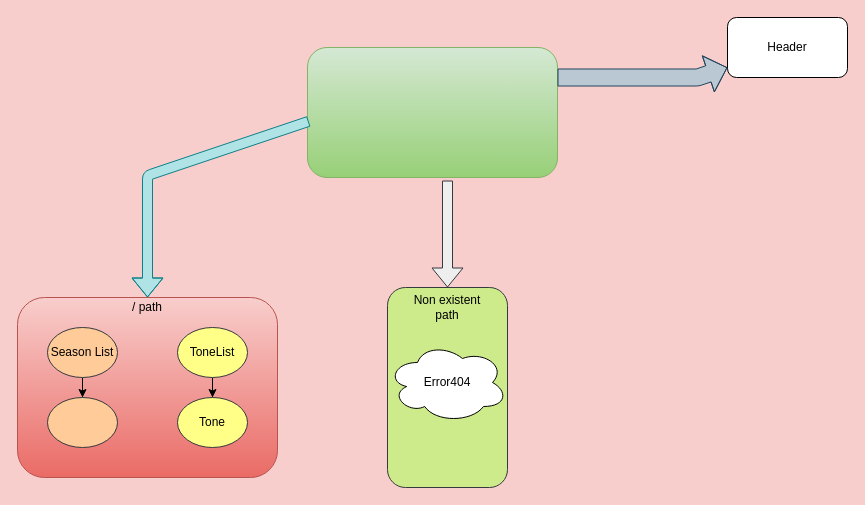
This 865x505 diagram has some shape labels left out. The shapes that lost their labels are listed below. From the top down, each one's box as (x1, y1, x2, y2) in pixels, then its label:
(306, 46, 558, 178): Survivor Tweet Tone App
(46, 396, 118, 448): Season
